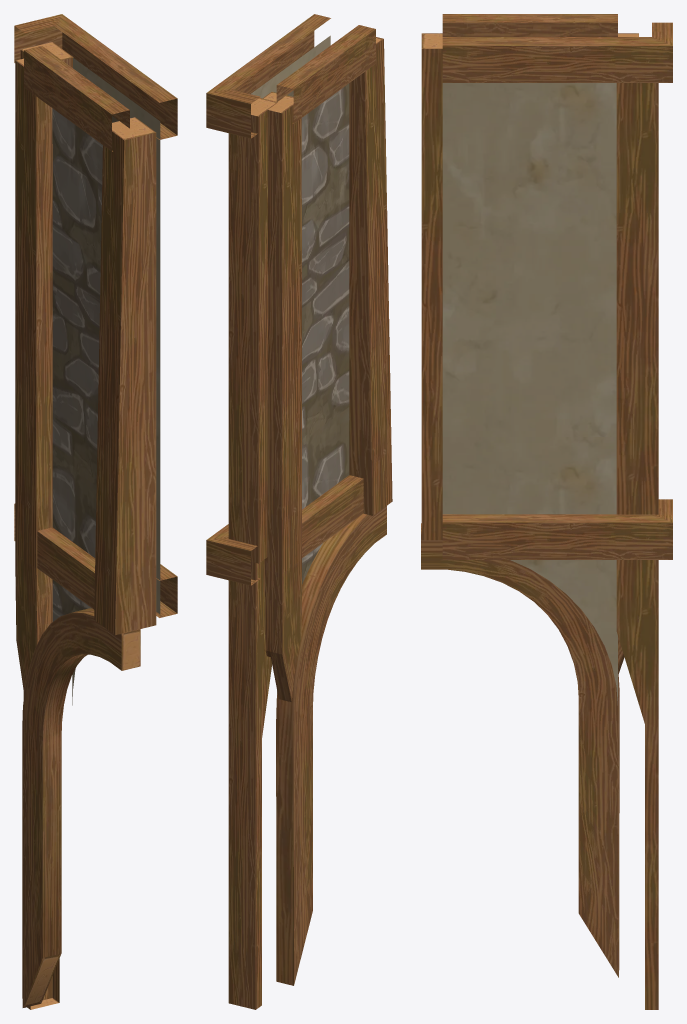
The model's file is overhang_side_unevenbrick_short_l.glb.
3 views of the same model, side by side, from view 1: azimuth 30°, elevation 25°; view 2: azimuth 150°, elevation 25°; view 3: azimuth 270°, elevation 25° (orthographic). The views are drawn at different scales.
Bounding box in the file's own units: 0.4794 × 6.12 × 1.44.
3 materials, 3 textured.
